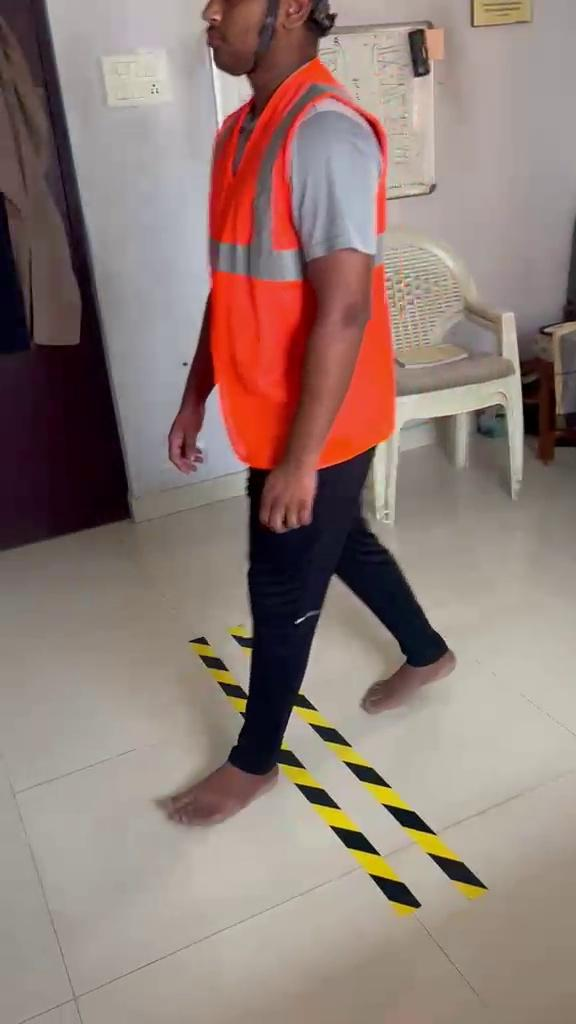BorderLine: (188, 626, 488, 916)
No_Helmet: (202, 0, 336, 77)
Person: (156, 0, 458, 830)
Vest: (207, 56, 396, 471)
